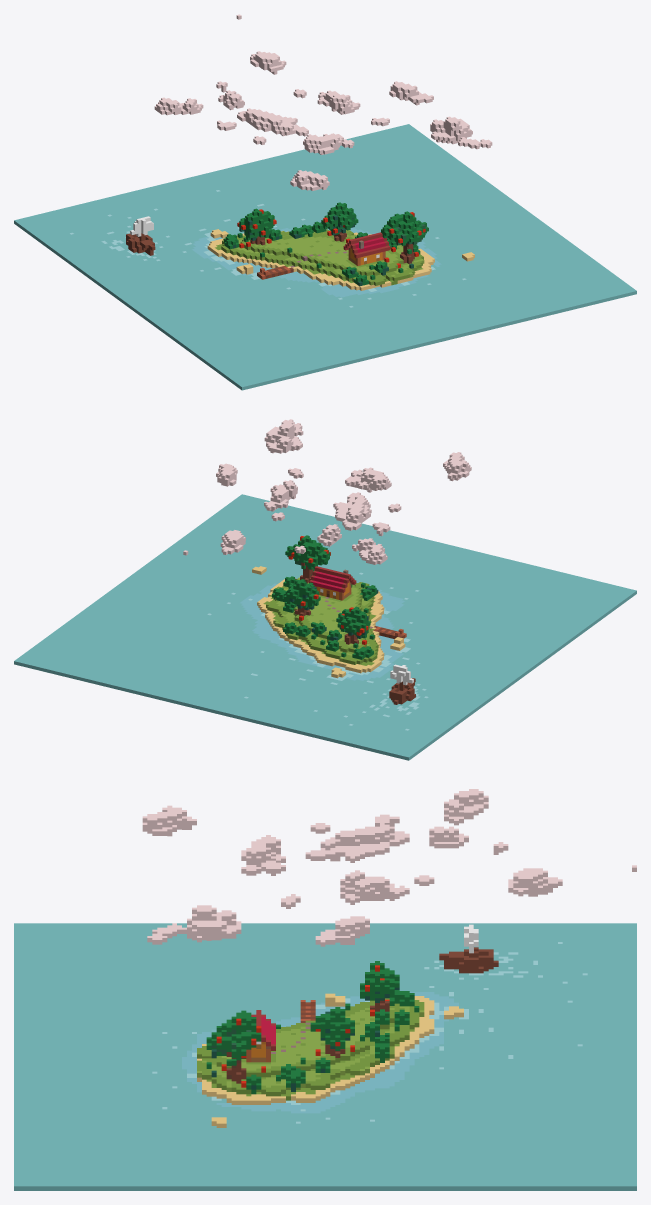
Rendered from ground.gltf.
3 views of the same model, one above another, from view 1: azimuth 30°, elevation 25°; view 2: azimuth 150°, elevation 25°; view 3: azimuth 270°, elevation 25° (orthographic). The views are drawn at different scales.
Parts seen in each view (by area): view 1: littleisle.001; view 2: littleisle.001; view 3: littleisle.001.
Boxes of the visible parts, x1,y1,x2,y2 form: littleisle.001: [14, 14, 636, 390]; littleisle.001: [14, 419, 636, 760]; littleisle.001: [14, 789, 636, 1190].
Size of the model in its own units: 126 by 47 by 126.
1 material, 1 textured.
